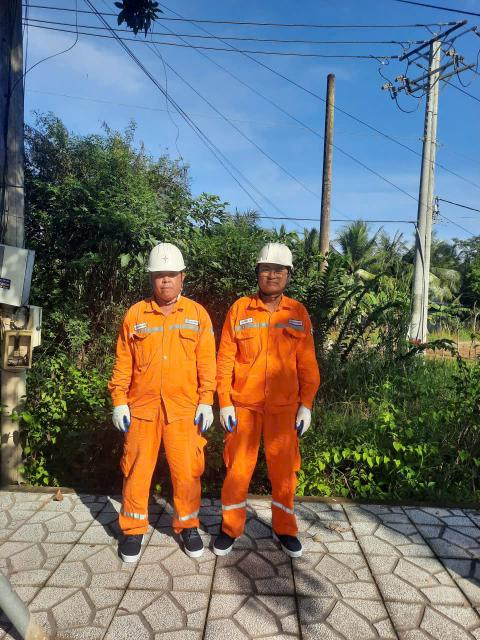gloves: (100, 401, 137, 433), (290, 399, 316, 435), (188, 403, 215, 432), (218, 402, 242, 432)
helmet: (139, 228, 192, 277), (241, 238, 297, 272)
shoes: (257, 520, 307, 562), (173, 518, 213, 565), (104, 527, 153, 563), (212, 519, 236, 558)
